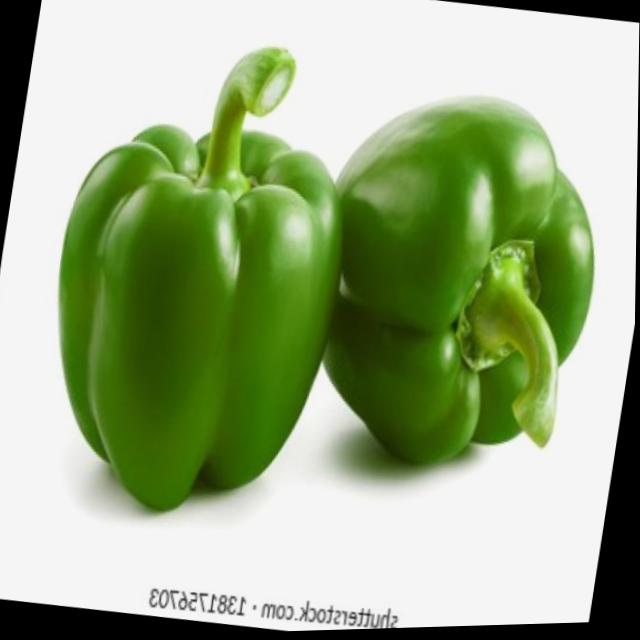Capsicum: (25, 105, 363, 536), (293, 75, 622, 495)
